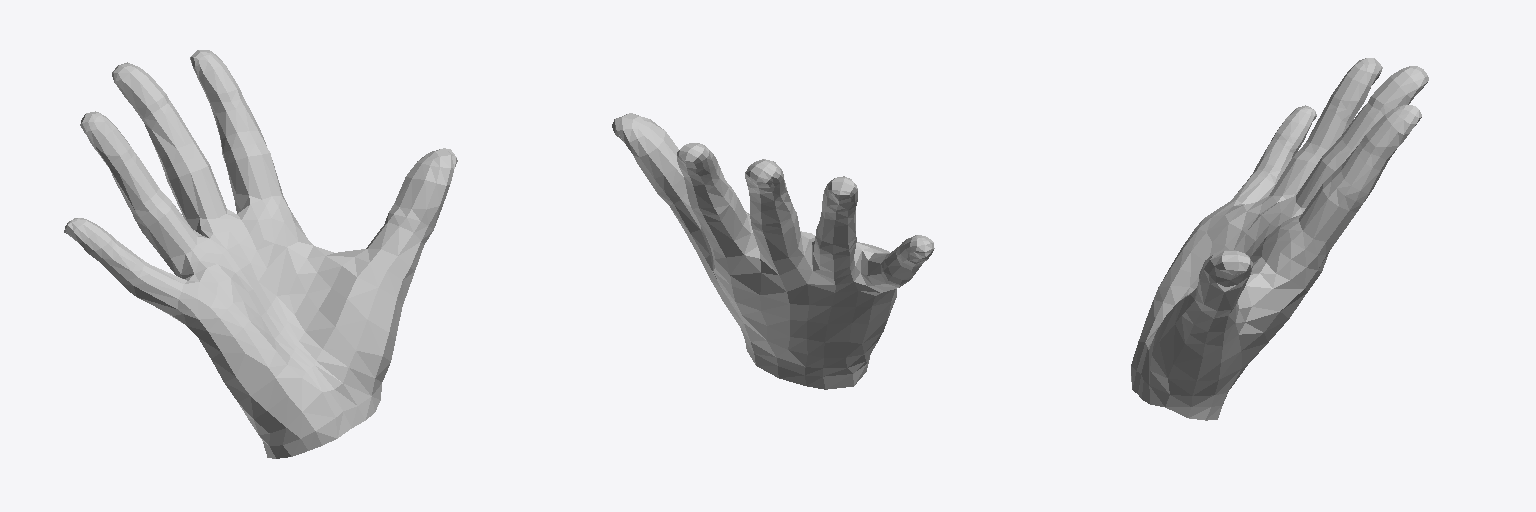
File: vis.obj
3 renders of one model, left to right at view 1: azimuth 30°, elevation 25°; view 2: azimuth 150°, elevation 25°; view 3: azimuth 270°, elevation 25°, orthographic.
Parts seen in each view (by area): view 1: 04_01r; view 2: 04_01r; view 3: 04_01r.
Part boxes in pixels (bbox=[...]): 04_01r: bbox=[64, 50, 457, 458]; 04_01r: bbox=[612, 113, 934, 389]; 04_01r: bbox=[1131, 58, 1428, 420].
Bounding box in the file's own units: 0.1801 × 0.1534 × 0.1313.